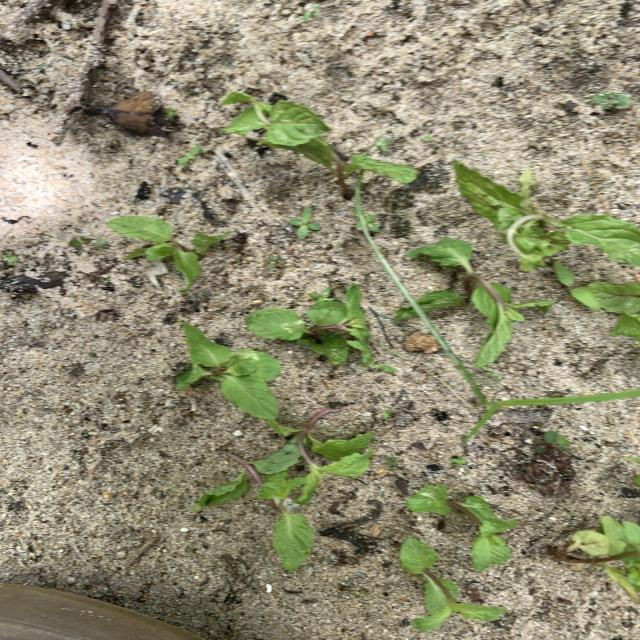crop: (396, 238, 554, 368), (453, 165, 639, 271), (223, 96, 414, 194), (405, 484, 516, 571), (268, 411, 372, 503), (400, 539, 505, 630), (176, 324, 278, 417), (248, 286, 371, 363), (108, 217, 228, 291), (550, 516, 639, 601), (191, 451, 301, 508), (270, 499, 312, 568)
weed: (355, 192, 640, 443), (555, 264, 600, 311), (288, 208, 319, 239), (534, 432, 569, 454), (177, 146, 202, 165), (265, 256, 288, 270), (164, 107, 179, 120), (451, 457, 466, 467)
